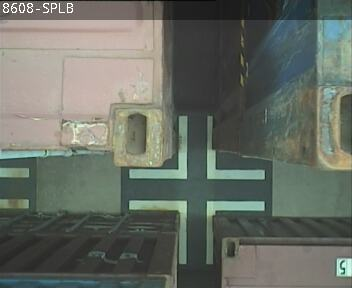groundmarker_1: (129, 117, 265, 179), (128, 201, 264, 263)
